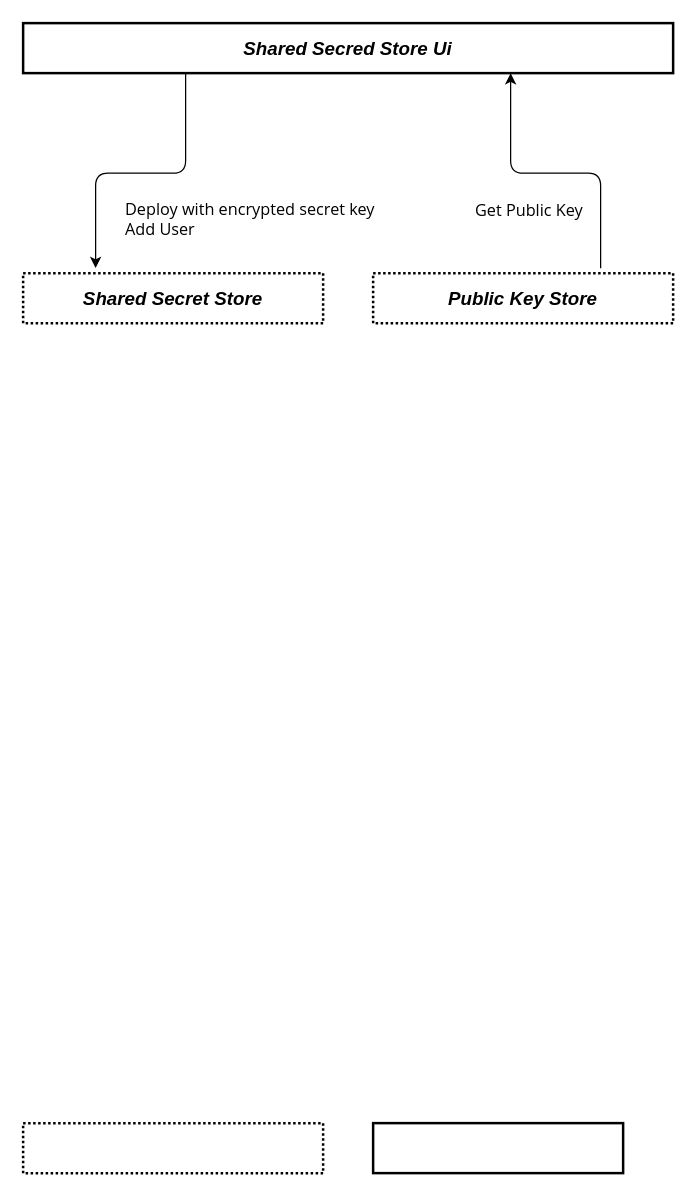
The diagram is 695 pixels wide and 1195 high, and some of its shapes have lost their labels. The shapes that lost their labels are listed below. From the top down, each one's centre as x and y in pixels, then its label:
the point at 172,1147: Smart Contract
the point at 497,1147: React Component
